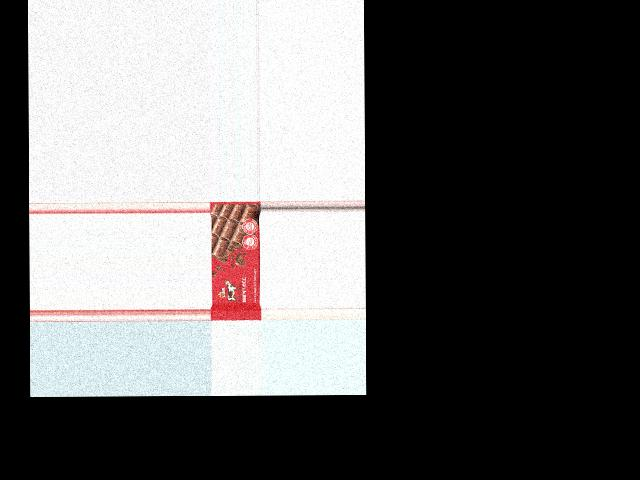chocolate: (210, 202, 261, 321)
